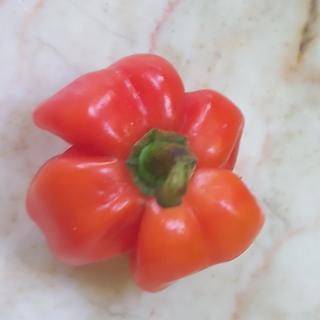Grade-B: (20, 48, 268, 292)
